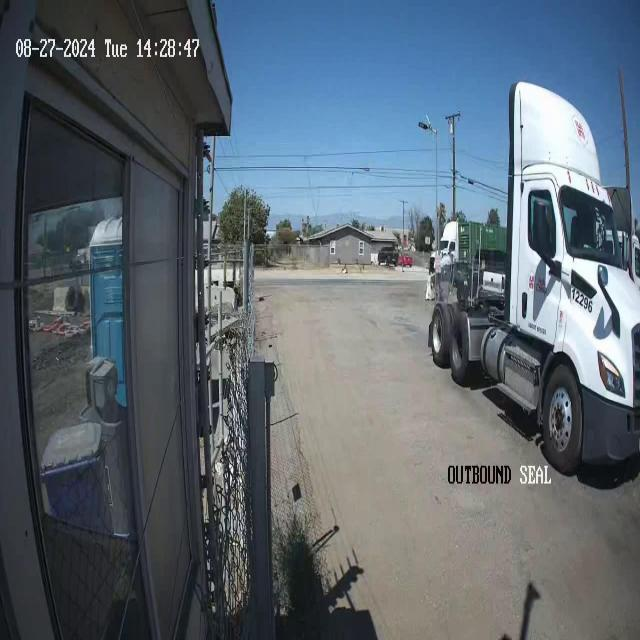BOBTAIL: (427, 78, 639, 469)
